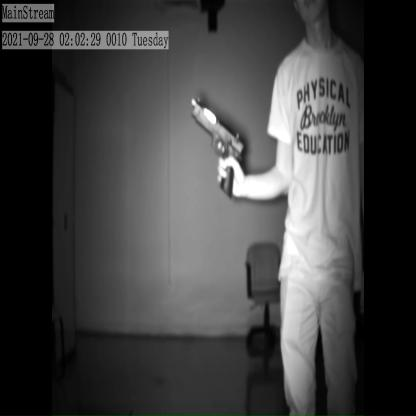weapon: (190, 93, 247, 200)
